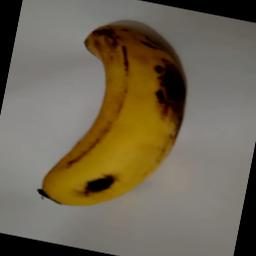Banana Unripe: (43, 14, 202, 216)
